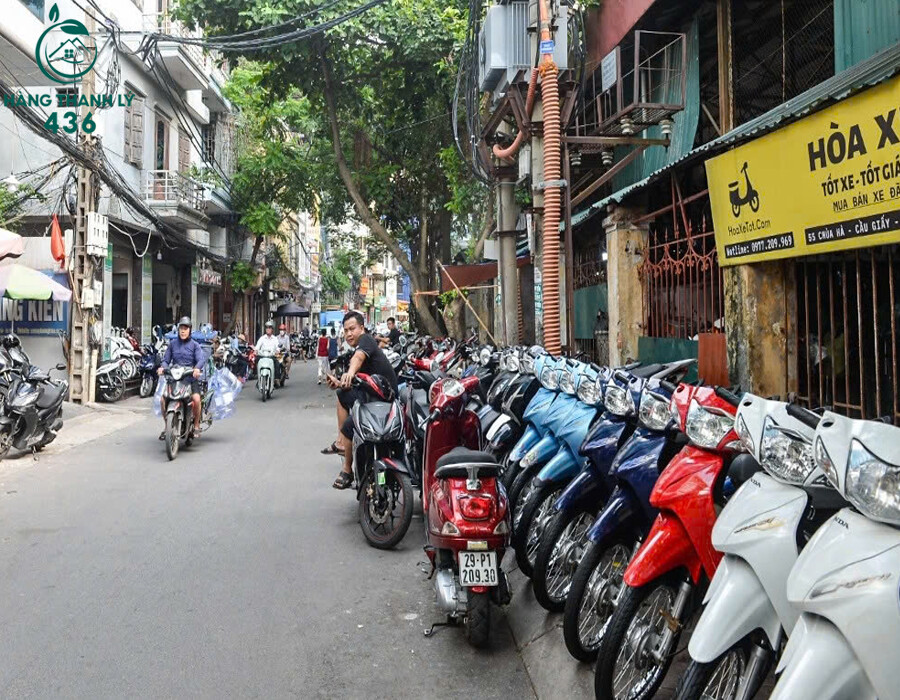bien_so: (456, 548, 503, 588)
